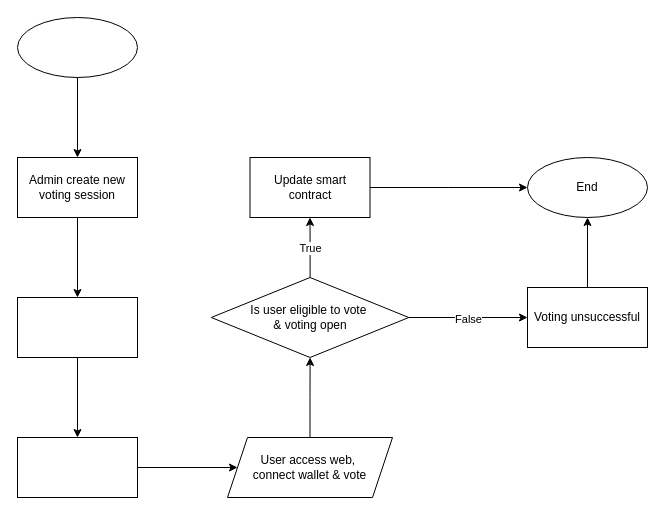
The diagram is 665 pixels wide and 515 high, and some of its shapes have lost their labels. Here are the shapes that lost their labels. From the top down, the box of each, then its label:
(16, 16, 138, 78): Start
(16, 296, 138, 358): Oracle fetch HR system & update the contract
(16, 436, 138, 498): Voting Start
